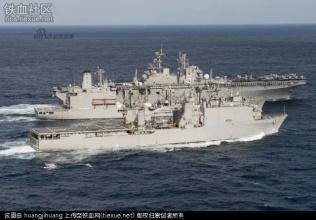warship: (31, 80, 283, 157), (51, 52, 308, 102), (36, 79, 270, 119)
